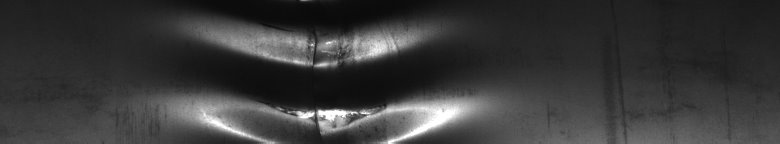ke: (196, 16, 473, 136)
